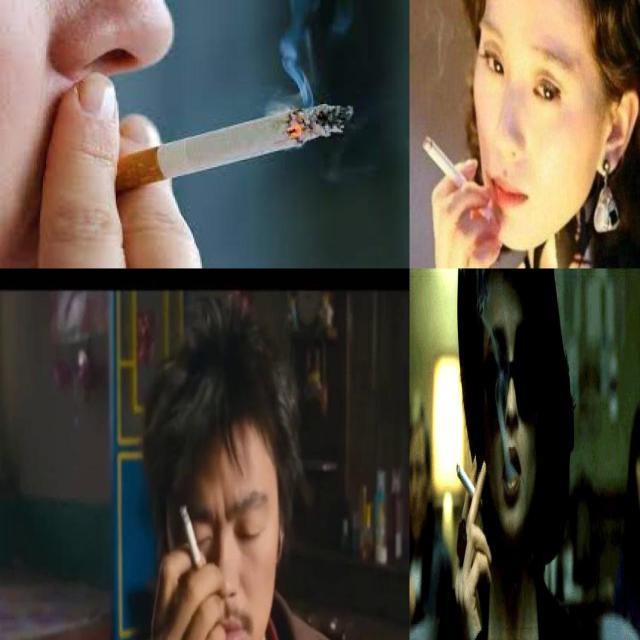smoking: (68, 103, 354, 202), (421, 134, 487, 215), (180, 502, 204, 574), (455, 459, 483, 512)
